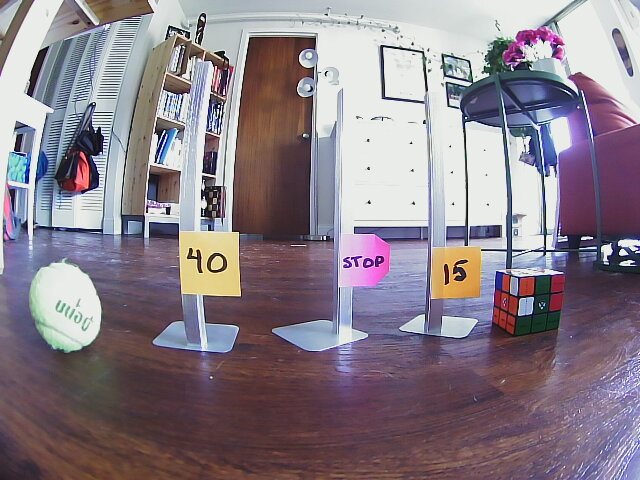15: (430, 248, 480, 296)
40: (179, 232, 239, 296)
ball: (30, 261, 103, 355)
cube: (495, 270, 562, 334)
stop: (337, 233, 390, 288)
